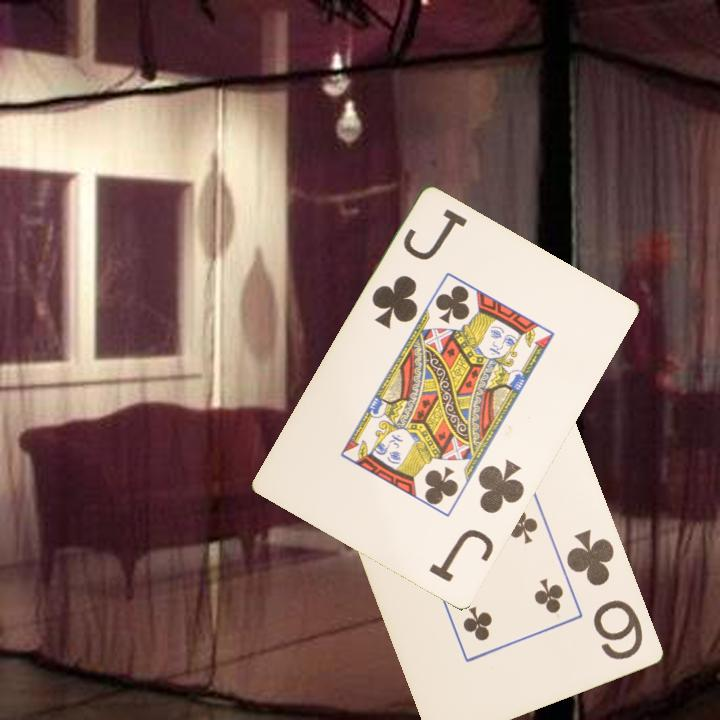6c: (563, 526, 647, 663)
Jc: (425, 457, 528, 586), (368, 205, 471, 333)
